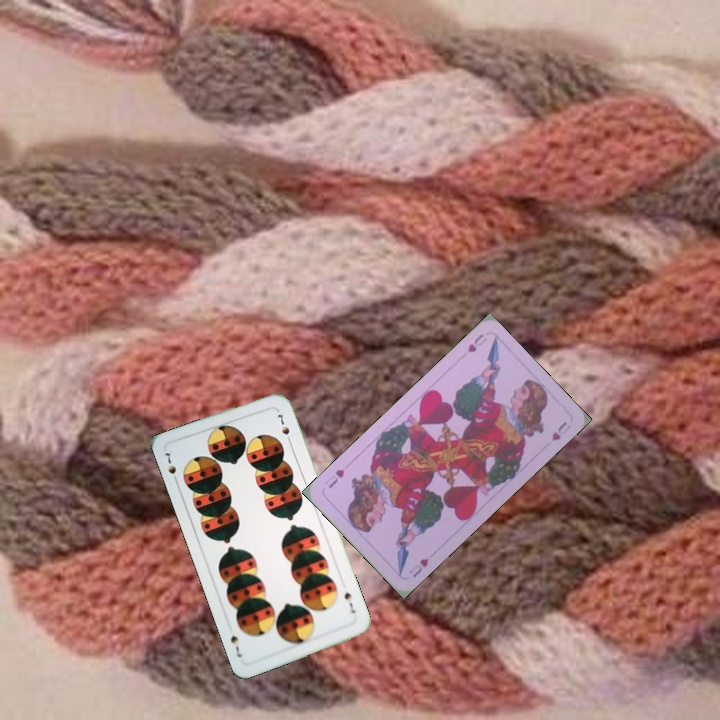HU: (405, 554, 431, 580), (463, 330, 490, 355)
S7: (160, 447, 181, 486), (340, 586, 358, 616)
